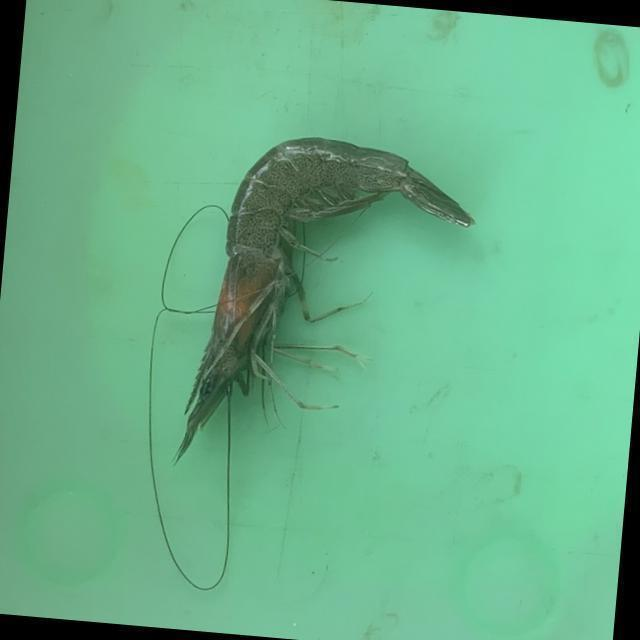shrimp: (178, 136, 473, 458)
